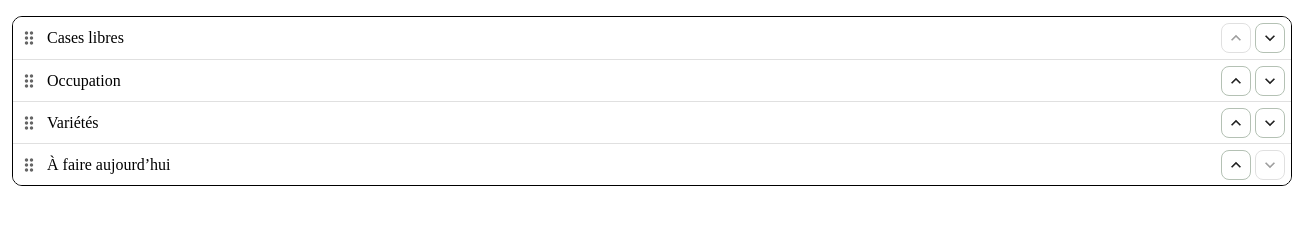
Test: ReorderableList — ▲ ▼ at the keyboard › ▼ moves the row down one place, and says so
Click the button named "Descendre « Cases libres »": (1270, 38) [1255,23,1285,53]
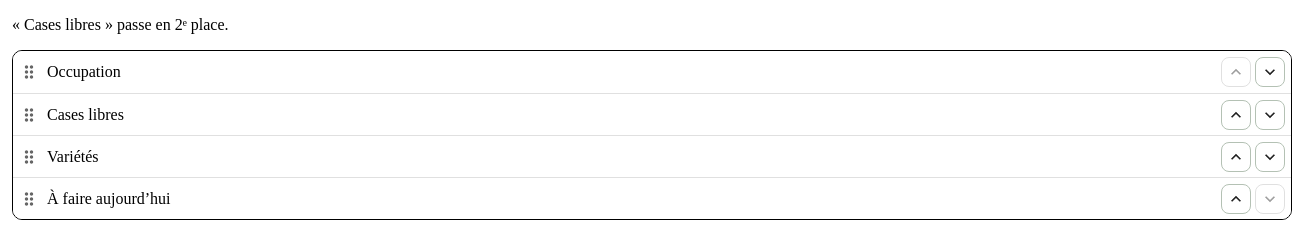
Check: the message "« Cases libres » passe en 2ᵉ place." is shown, box [12,16,228,33]
